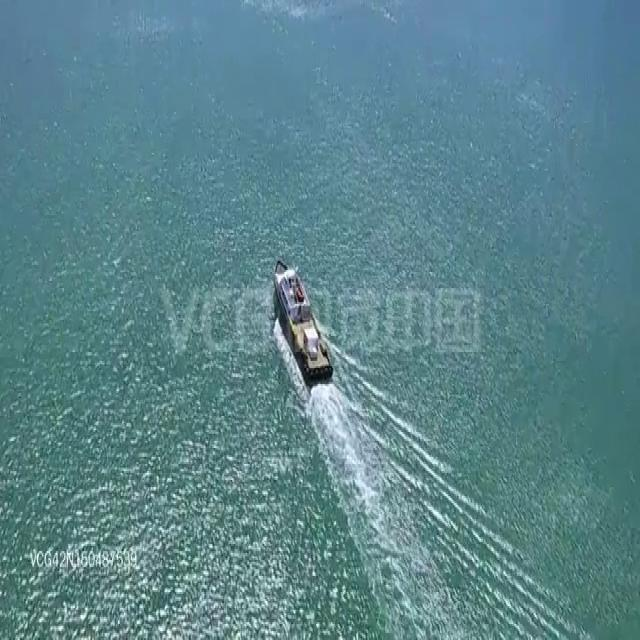houseboat: (270, 258, 332, 380)
